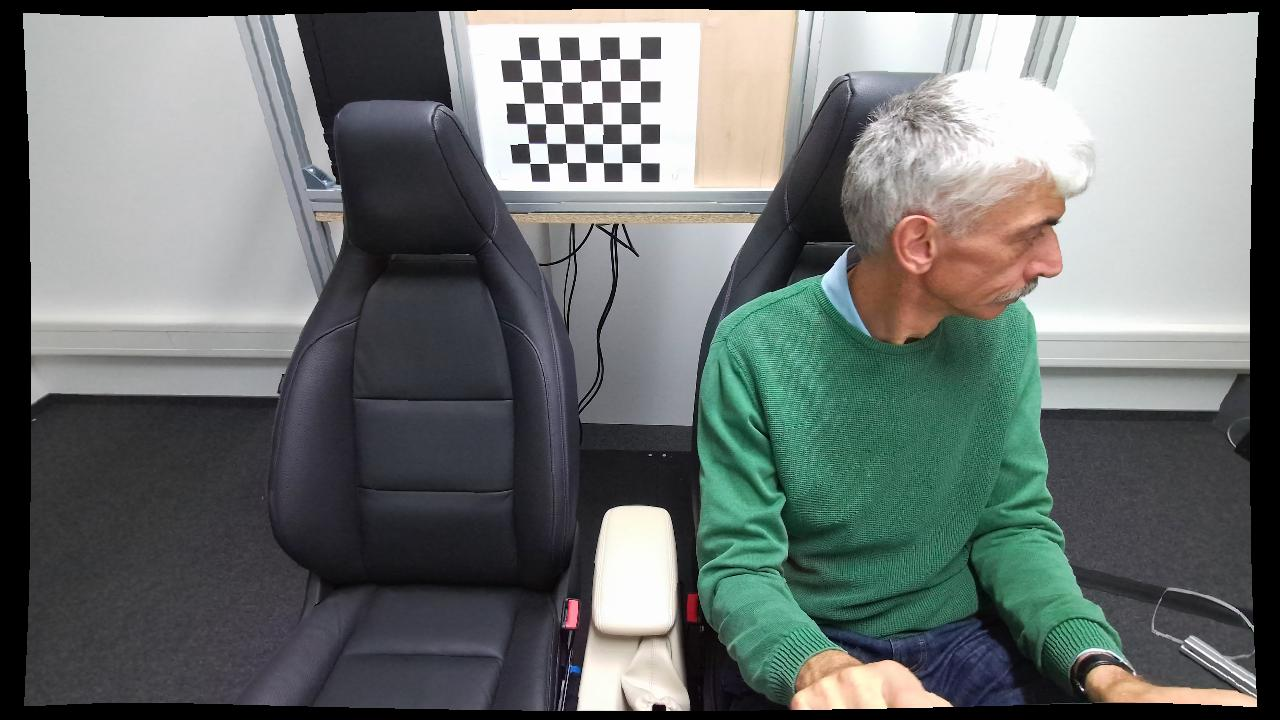Distracted: (688, 64, 1110, 714)
